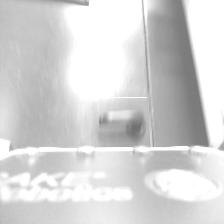Door Handle: (97, 97, 147, 142)
